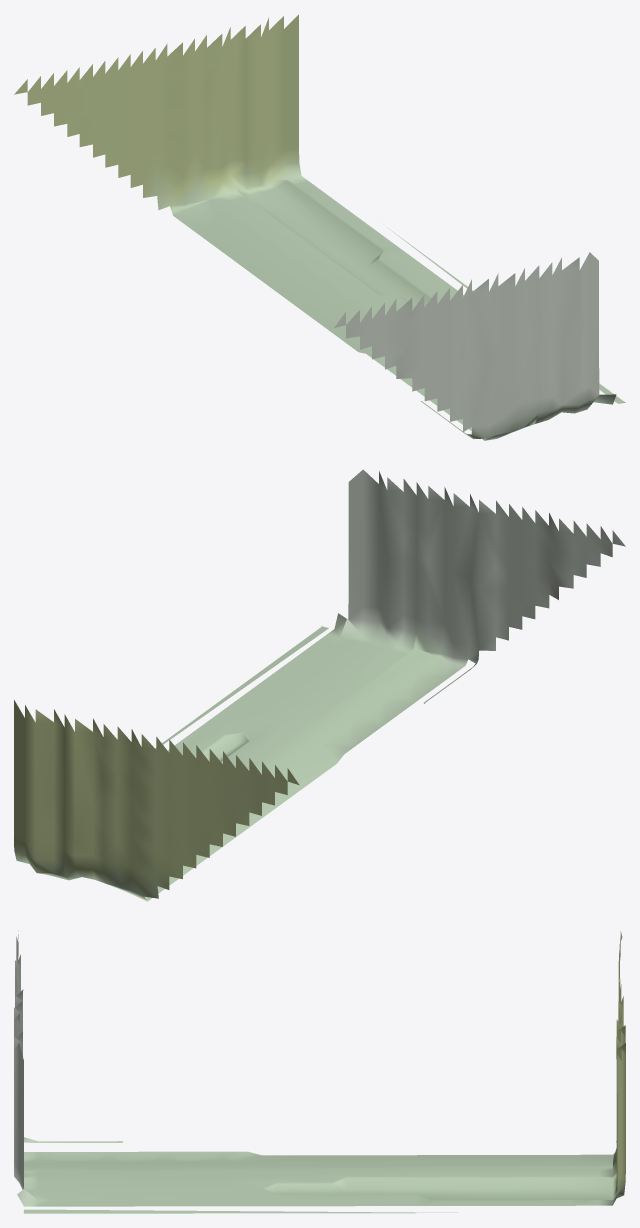
Rendered from tile_7e4ccbd5fe0e_0_0_-2_0_lod1.glb.
3 renders of one model, top to bottom at view 1: azimuth 30°, elevation 25°; view 2: azimuth 150°, elevation 25°; view 3: azimuth 270°, elevation 25°, orthographic. The views are drawn at different scales.
Size of the model in its own units: 1.84 by 1.01 by 3.49.
